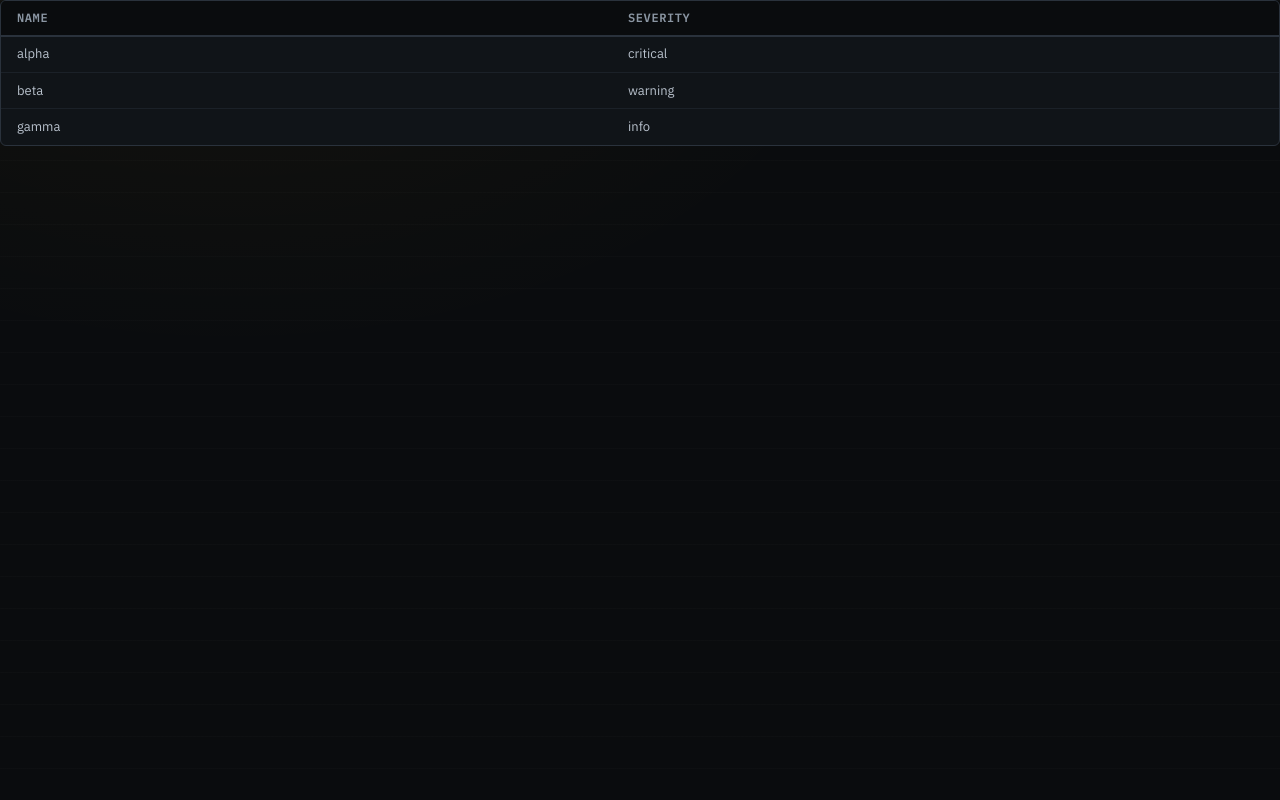
DataTable › context menu › prepends 'View details' ahead of the page's contextMenuItems when renderDetails is set, and opens the drawer
This screenshot has width=1280, height=800.
Right-click the text "beta" at [30, 90], box [17, 82, 43, 98]
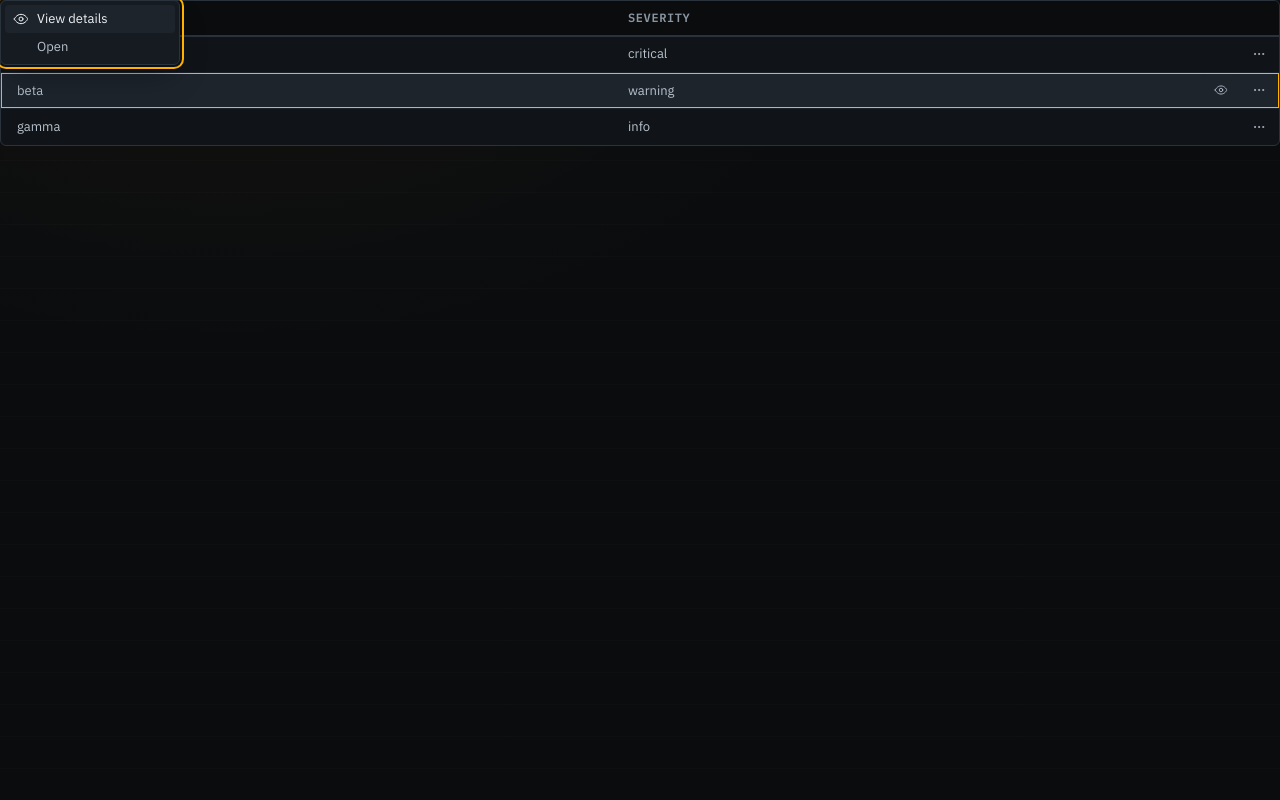
expect the menu named "row context menu" is shown: met, box [0, 0, 180, 65]
expect the menu item "View details" is shown: met
expect the menu item "Open" is shown: met, box [37, 38, 68, 54]
Click the menu item "View details" at [90, 19], box [5, 5, 175, 32]
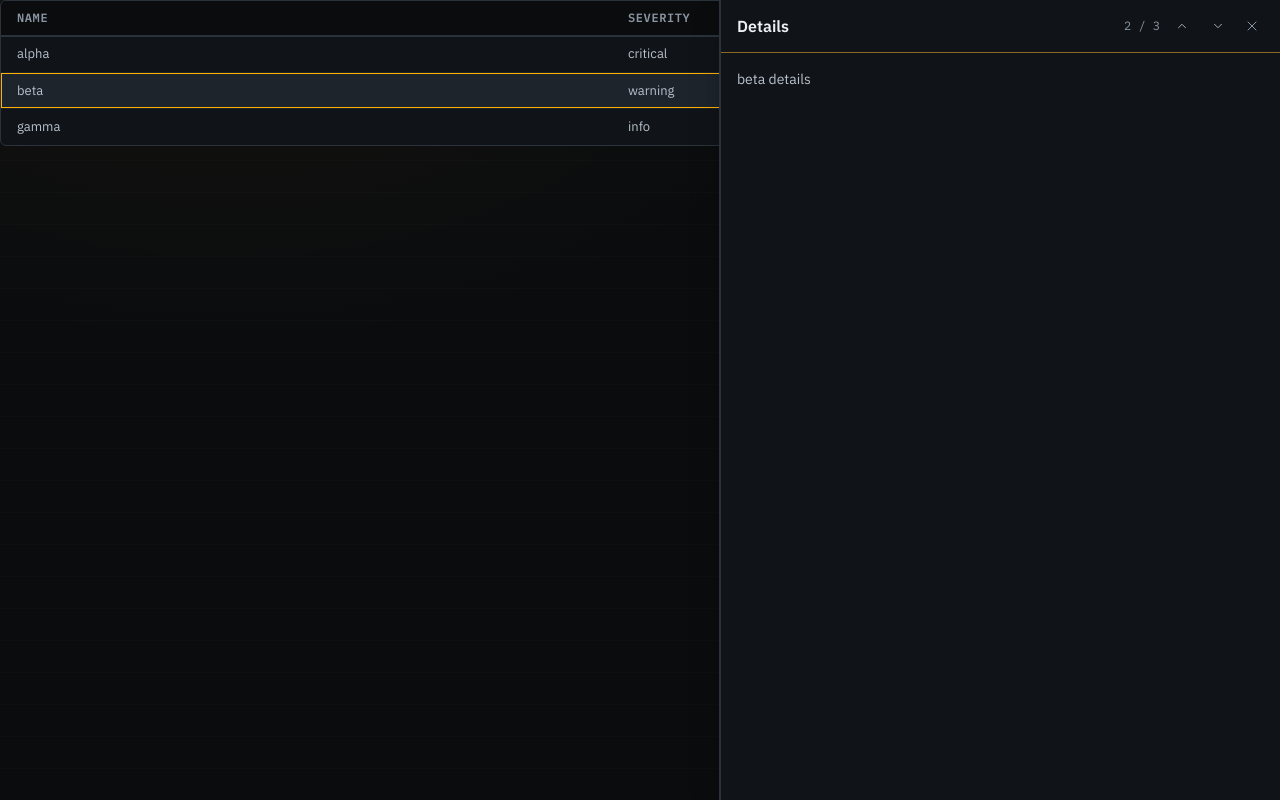
expect the text "beta details" is shown: met, box [737, 70, 811, 88]
